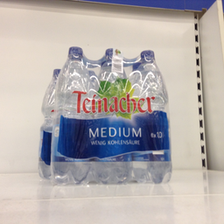water: (128, 50, 172, 184), (52, 46, 92, 185), (92, 48, 130, 185)
